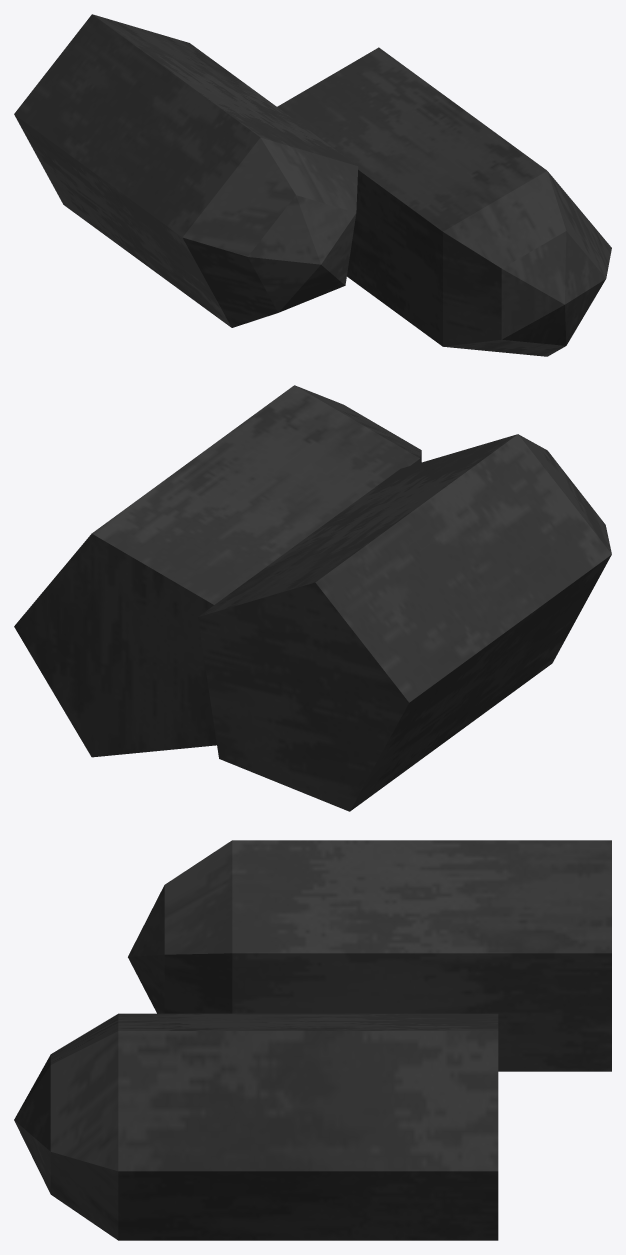
File: rifleBullets.fbx
3 renders of one model, top to bottom at view 1: azimuth 30°, elevation 25°; view 2: azimuth 150°, elevation 25°; view 3: azimuth 270°, elevation 25°, orthographic. The views are drawn at different scales.
Visible parts, largest first — view 1: proj_rifleBullets; view 2: proj_rifleBullets; view 3: proj_rifleBullets.
Boxes of the visible parts, box(x1,y1,x2,y2) form: proj_rifleBullets: box(14, 14, 611, 356); proj_rifleBullets: box(14, 385, 611, 811); proj_rifleBullets: box(14, 840, 611, 1240).
Bounding box in the file's own units: 0.1734 × 0.105 × 0.2103.
